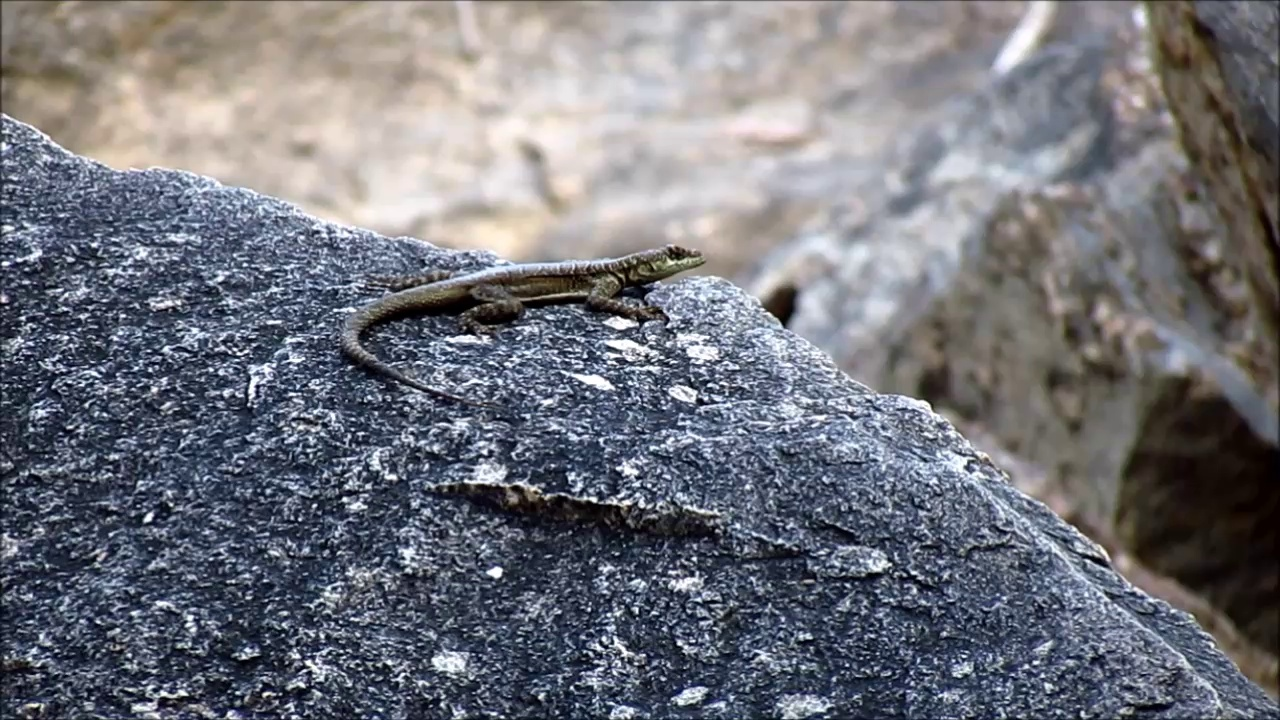body: (338, 249, 662, 385)
head: (636, 242, 707, 279)
